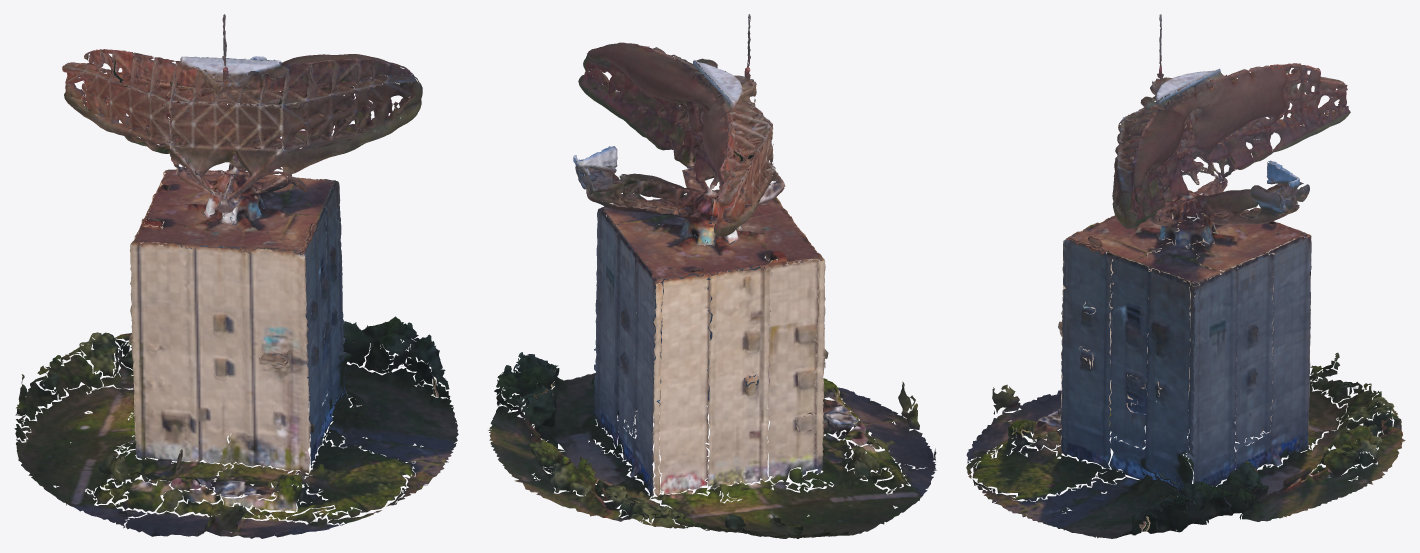
File: radar_camp.glb
The picture shows the model from 3 angles, left to right: view 1: azimuth 30°, elevation 25°; view 2: azimuth 150°, elevation 25°; view 3: azimuth 270°, elevation 25°; orthographic projection. The views are drawn at different scales.
Visible parts, largest first — view 1: base, top; view 2: base, top; view 3: base, top.
Part boxes in pixels (x1,y1,x2,y2): base: (14, 169, 458, 538); top: (62, 14, 422, 213); base: (488, 182, 936, 538); top: (573, 14, 785, 236); base: (966, 190, 1405, 538); top: (1112, 14, 1350, 228).
Size of the model in its own units: 47.95 by 54.01 by 48.21.
1 material, 1 textured.
